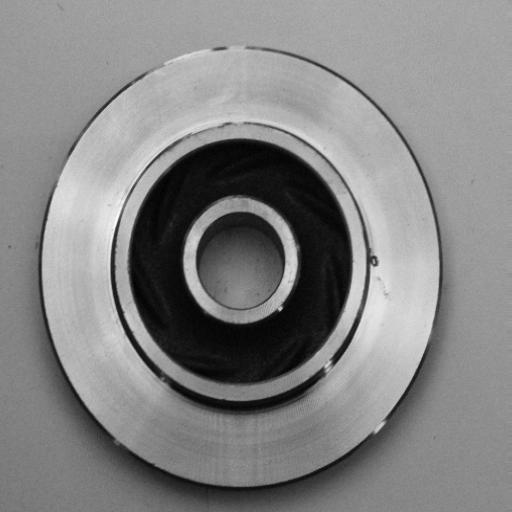crack: (360, 232, 387, 282)
scratch: (147, 36, 220, 83), (170, 112, 252, 143)
unpolished_casting: (40, 42, 446, 496)
